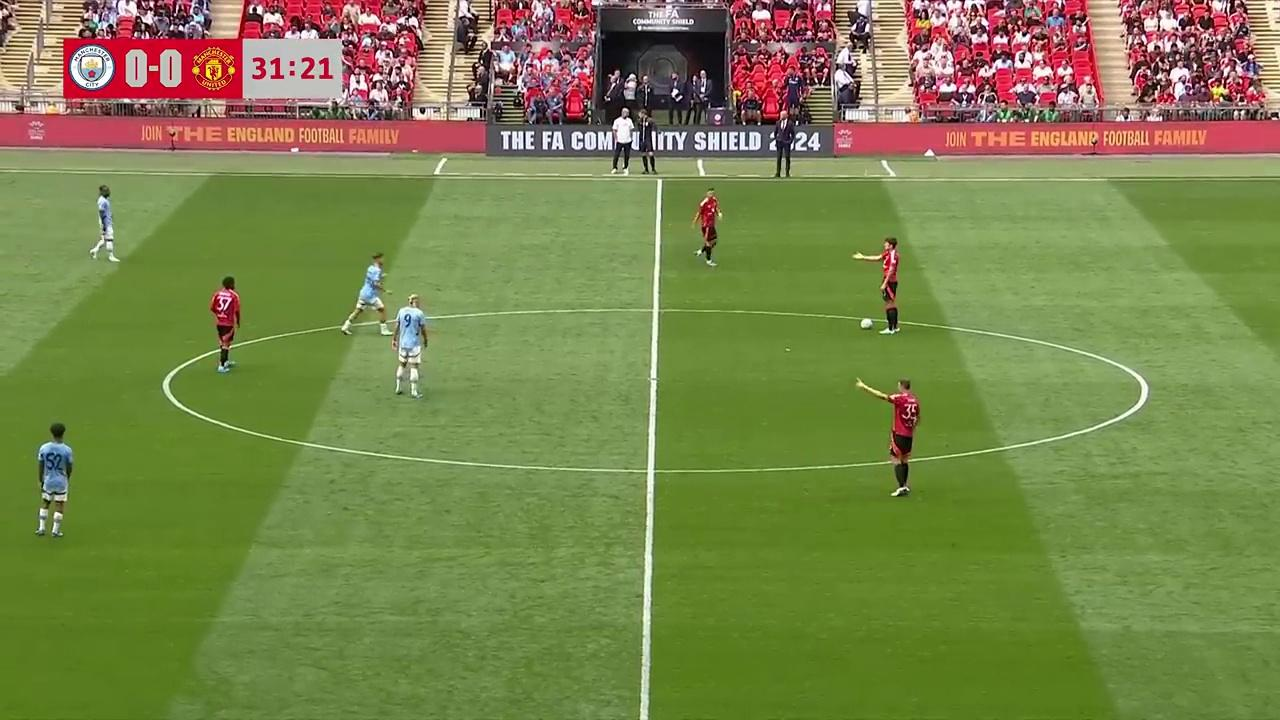ball: (859, 315, 873, 329)
player: (36, 424, 74, 539), (887, 378, 920, 497), (342, 253, 388, 333), (390, 300, 424, 399), (209, 276, 241, 372), (870, 236, 900, 334), (691, 188, 723, 267), (89, 184, 120, 263)
